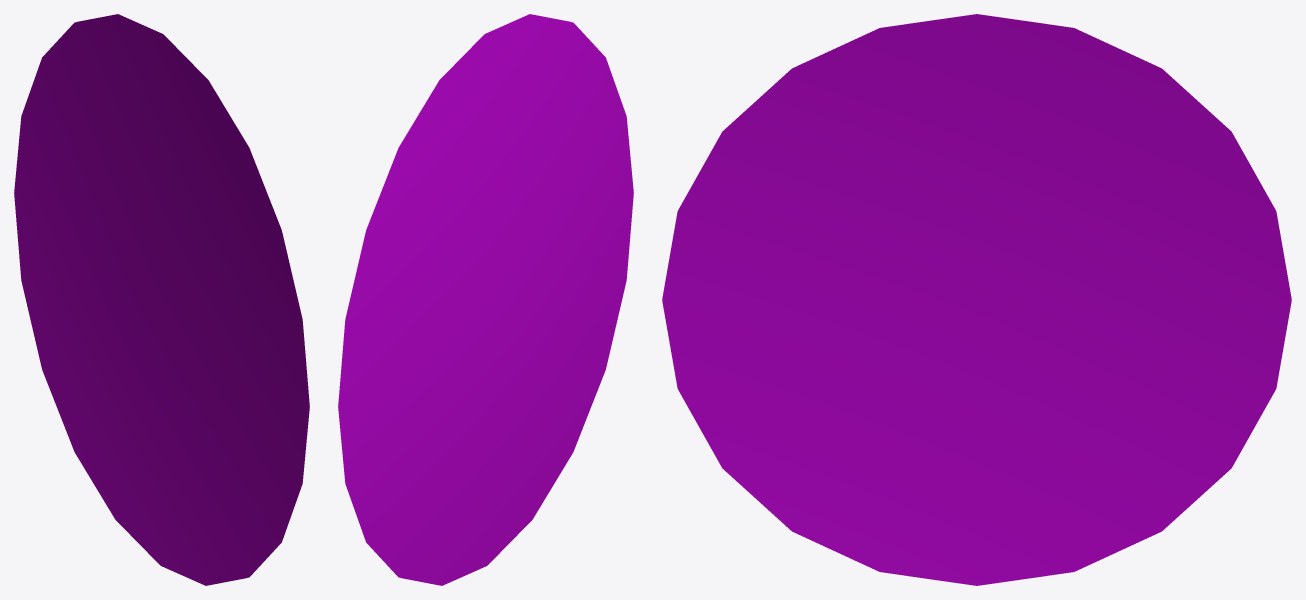
The model's file is Windmill_01_Wheel_Lod1.fbx.
The picture shows the model from 3 angles, left to right: view 1: azimuth 30°, elevation 25°; view 2: azimuth 150°, elevation 25°; view 3: azimuth 270°, elevation 25°; orthographic projection. The views are drawn at different scales.
Parts seen in each view (by area): view 1: Windmill_01_Wheel_Lod1; view 2: Windmill_01_Wheel_Lod1; view 3: Windmill_01_Wheel_Lod1.
Part boxes in pixels (x1=…): Windmill_01_Wheel_Lod1: x1=14, y1=14, x2=309, y2=585; Windmill_01_Wheel_Lod1: x1=338, y1=14, x2=633, y2=585; Windmill_01_Wheel_Lod1: x1=662, y1=14, x2=1291, y2=585.
Size of the model in its own units: 13.78 by 285 by 285.
